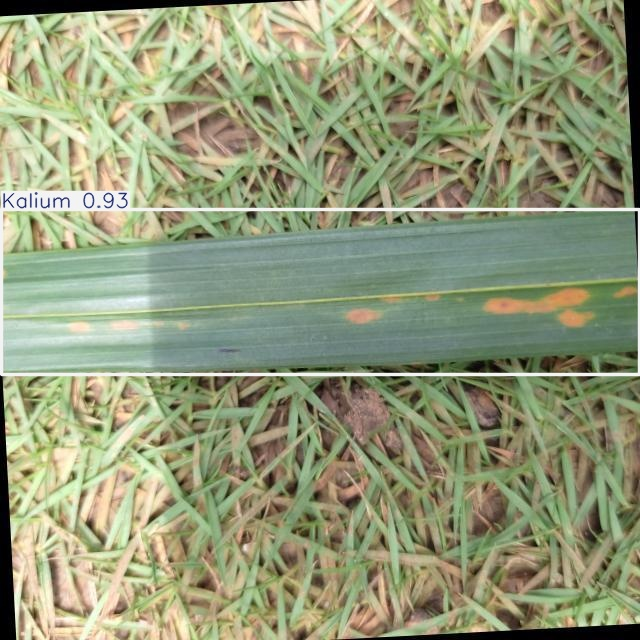Kalium: (2, 210, 640, 375)
